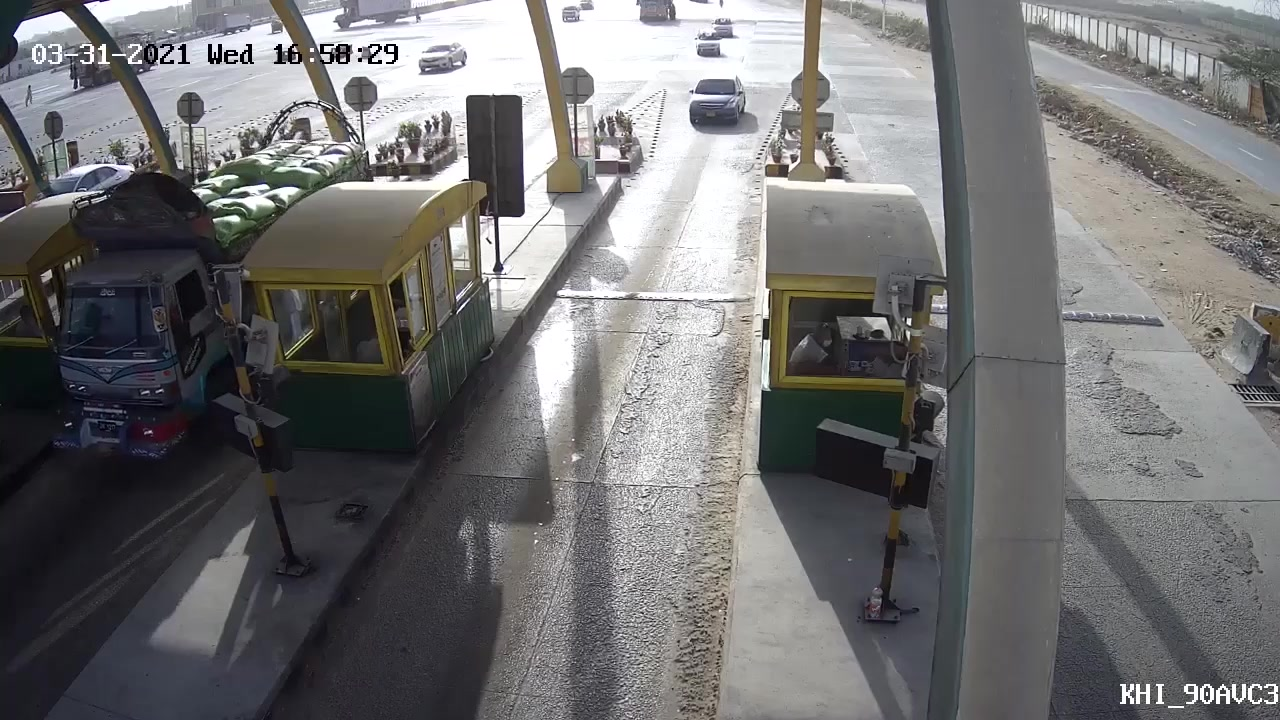F1: (683, 74, 746, 133)
